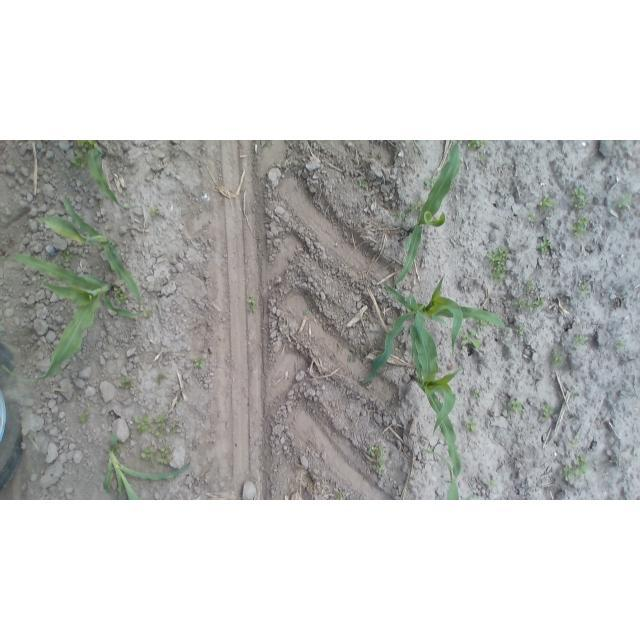Maize: (0, 247, 140, 384), (359, 274, 508, 387), (28, 193, 145, 306), (403, 292, 465, 496), (389, 143, 463, 290), (99, 430, 193, 500), (82, 140, 136, 212), (417, 448, 467, 499)
Weeds: (487, 244, 511, 283), (561, 452, 589, 482), (368, 442, 389, 479), (458, 328, 482, 349), (570, 186, 590, 211), (400, 199, 420, 220), (570, 216, 590, 236), (539, 402, 558, 423), (548, 349, 567, 369), (141, 444, 156, 469), (396, 204, 415, 223), (537, 195, 557, 213), (68, 150, 86, 170), (536, 235, 553, 256), (134, 415, 153, 433), (113, 287, 130, 307), (506, 397, 525, 414), (616, 192, 633, 211), (525, 297, 545, 312), (55, 251, 75, 266), (154, 414, 166, 439), (157, 444, 171, 465), (347, 345, 362, 363), (118, 376, 136, 391), (573, 331, 588, 348), (77, 410, 92, 424), (247, 295, 258, 314), (577, 282, 590, 298), (464, 418, 478, 432), (470, 385, 482, 401), (78, 141, 95, 152), (153, 373, 167, 386), (523, 280, 537, 293), (423, 175, 437, 188), (193, 357, 208, 369), (167, 421, 179, 436), (467, 141, 486, 150), (526, 212, 538, 225), (568, 437, 580, 450), (140, 307, 153, 319), (615, 338, 626, 352), (515, 324, 527, 336), (331, 491, 346, 500), (515, 297, 526, 309), (148, 208, 160, 219), (486, 479, 499, 489), (357, 178, 368, 189), (478, 154, 489, 164), (570, 391, 580, 401), (94, 198, 104, 208), (613, 141, 625, 146), (302, 311, 310, 318)
